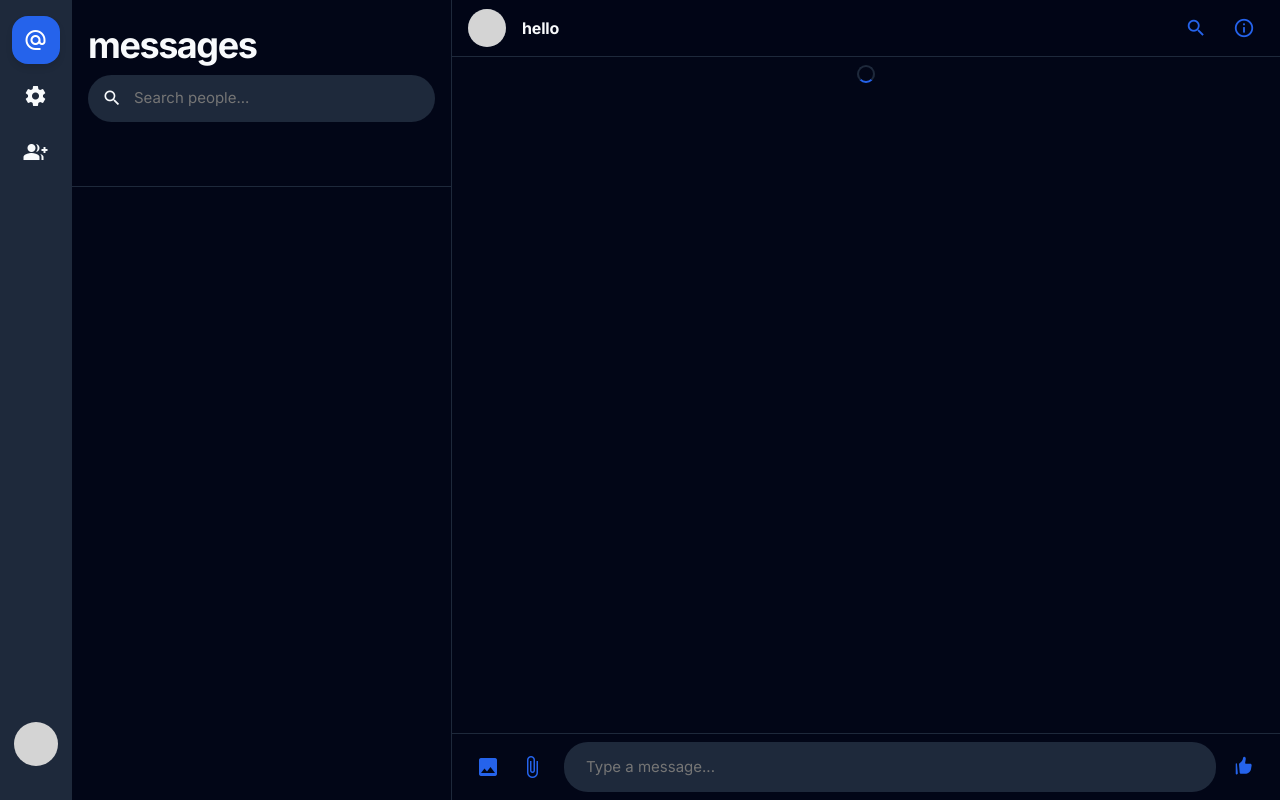
Test case: Message › should display pending message and switch to sent when clicking send button
Expected: the element showing "hello" is shown, [452,0,1279,57]
Step 1. Type "Hello world!" into the field with placeholder "Type a message..." → (890, 768), box [564,742,1216,793]
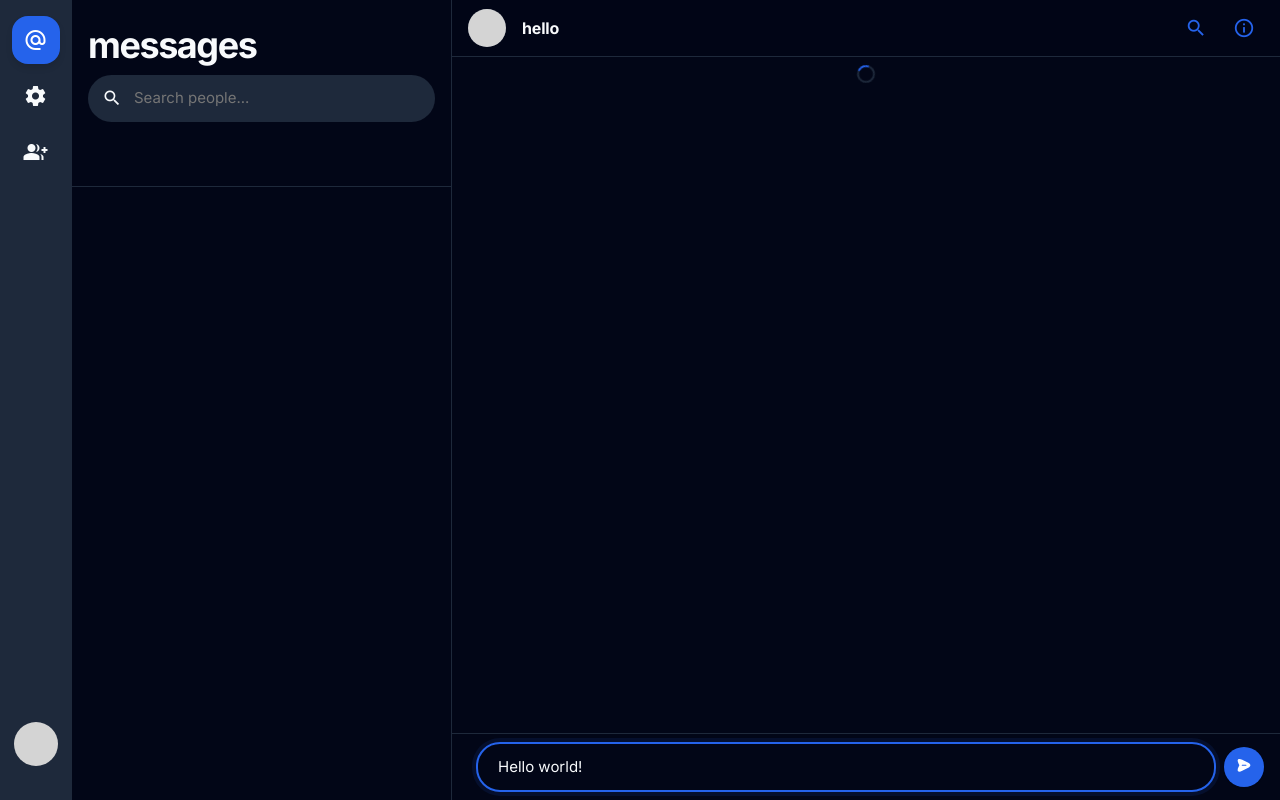
Step 2. Click the button with class "send-btn" → (1244, 767), box [1224,747,1264,787]
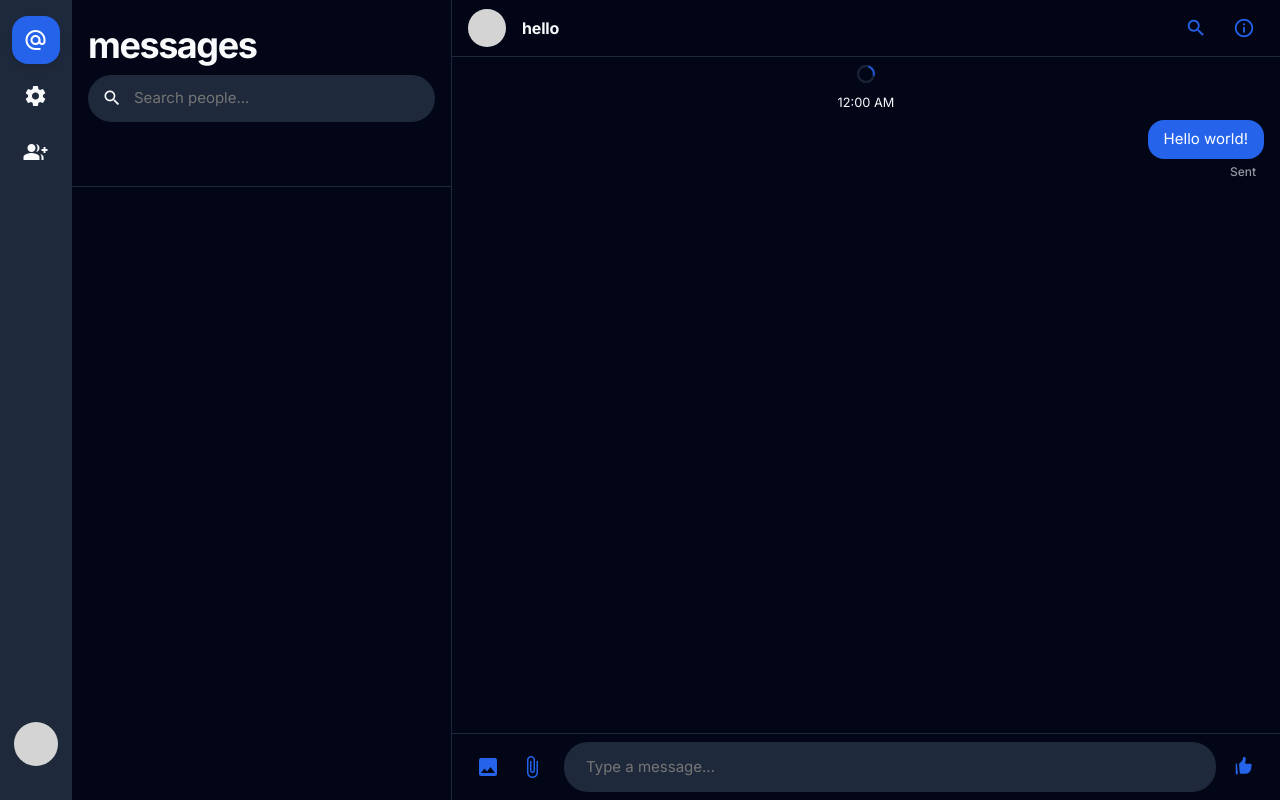
Expected: the text "Sent" is shown, [1230,163,1256,181]
